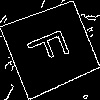F: (25, 23, 78, 68)
